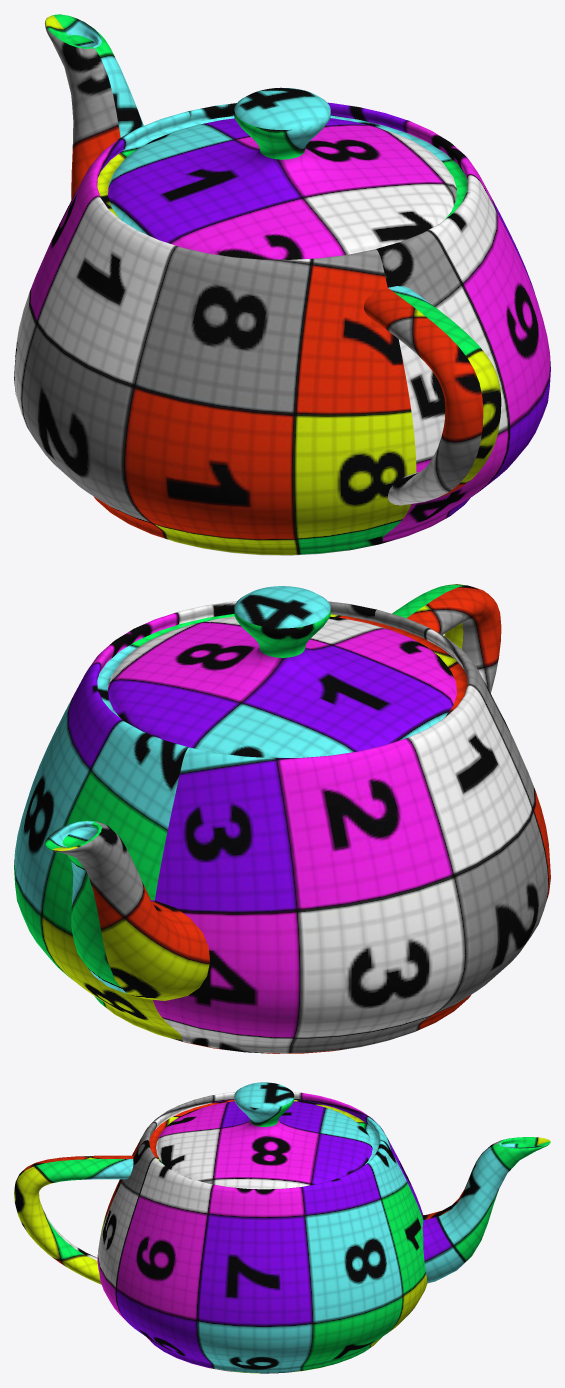
The model's file is asset.glb.
3 views of the same model, one above another, from view 1: azimuth 30°, elevation 25°; view 2: azimuth 150°, elevation 25°; view 3: azimuth 270°, elevation 25° (orthographic). The views are drawn at different scales.
Parts seen in each view (by area): view 1: teapot; view 2: teapot; view 3: teapot.
Boxes of the visible parts, x1,y1,x2,y2 form: teapot: (14,14,550,555); teapot: (14,584,550,1053); teapot: (14,1082,550,1373).
Size of the model in its own units: 4 by 3.15 by 6.43.
Materials: 1 (1 with a texture image).
